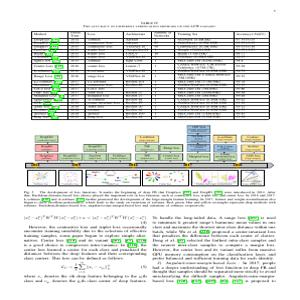diagram: (26, 124, 276, 188)
table: (26, 28, 274, 123)
text: (152, 214, 277, 288), (21, 215, 148, 287), (21, 190, 279, 209)
